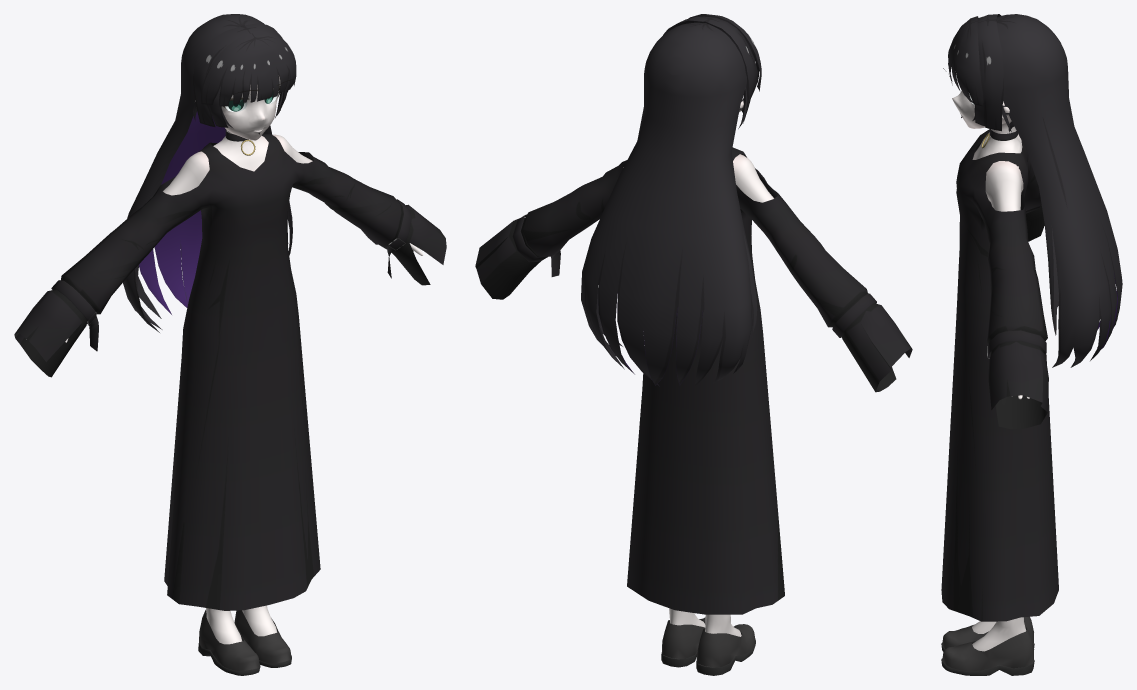
3 views of the same model, side by side, from view 1: azimuth 30°, elevation 25°; view 2: azimuth 150°, elevation 25°; view 3: azimuth 270°, elevation 25° (orthographic).
Parts seen in each view (by area): view 1: 头发服饰, 眼睛; view 2: 头发服饰, 眼睛; view 3: 头发服饰, 眼睛.
Boxes of the visible parts, bbox=[...] form: 头发服饰: bbox=[14, 14, 446, 675]; 眼睛: bbox=[26, 76, 423, 644]; 头发服饰: bbox=[475, 14, 912, 675]; 眼睛: bbox=[623, 99, 773, 636]; 头发服饰: bbox=[941, 14, 1122, 675]; 眼睛: bbox=[952, 91, 1029, 651].
Size of the model in its own units: 179 by 255 by 65.31.
3 materials, 3 textured.
